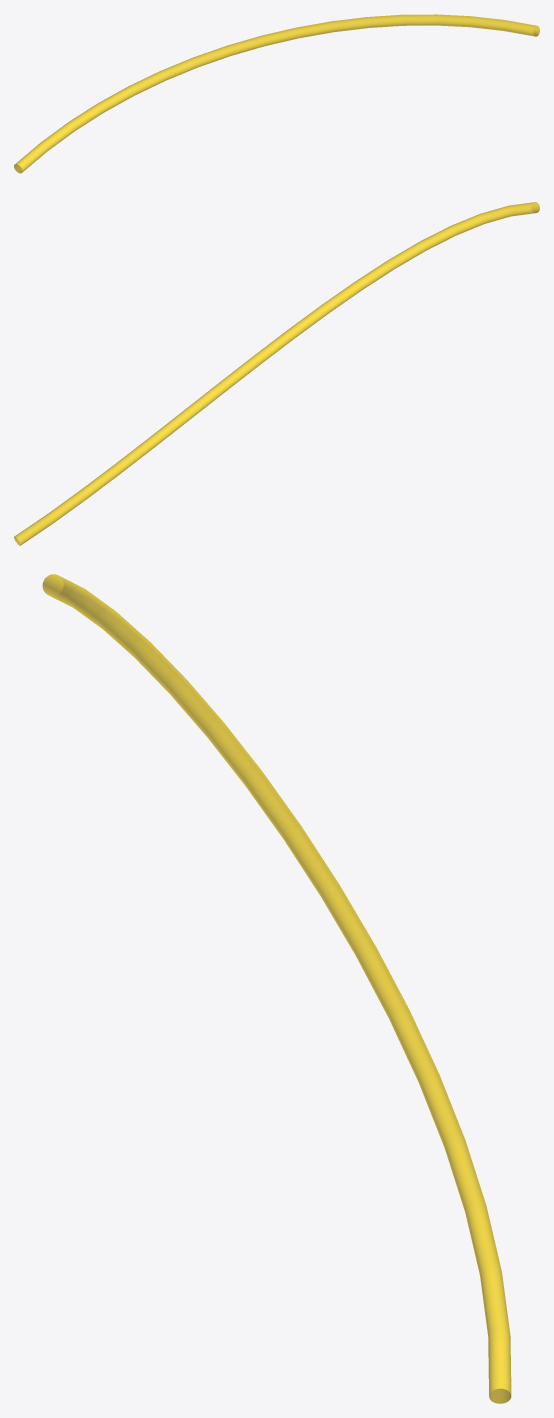
File: Event_40932208_track_39.fbx
3 renders of one model, top to bottom at view 1: azimuth 30°, elevation 25°; view 2: azimuth 210°, elevation 25°; view 3: azimuth 270°, elevation 25°, orthographic. The views are drawn at different scales.
Parts seen in each view (by area): view 1: Model; view 2: Model; view 3: Model.
Boxes of the visible parts, bbox=[...] form: Model: bbox=[14, 14, 539, 173]; Model: bbox=[14, 202, 539, 545]; Model: bbox=[42, 574, 511, 1403].
Size of the model in its own units: 2.62 by 0.5022 by 0.8386.
